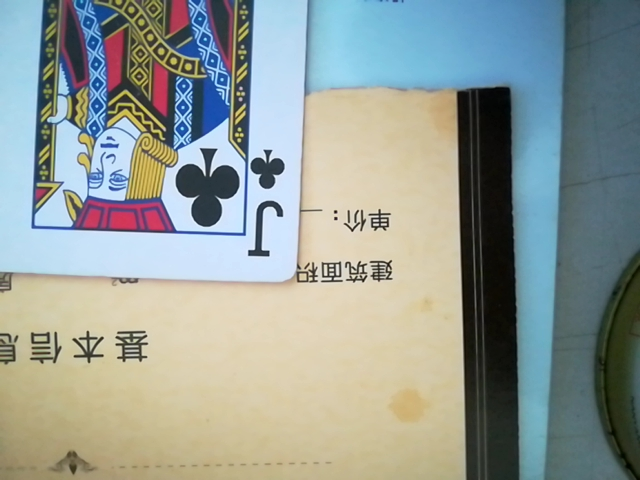mh j: (3, 0, 319, 285)
